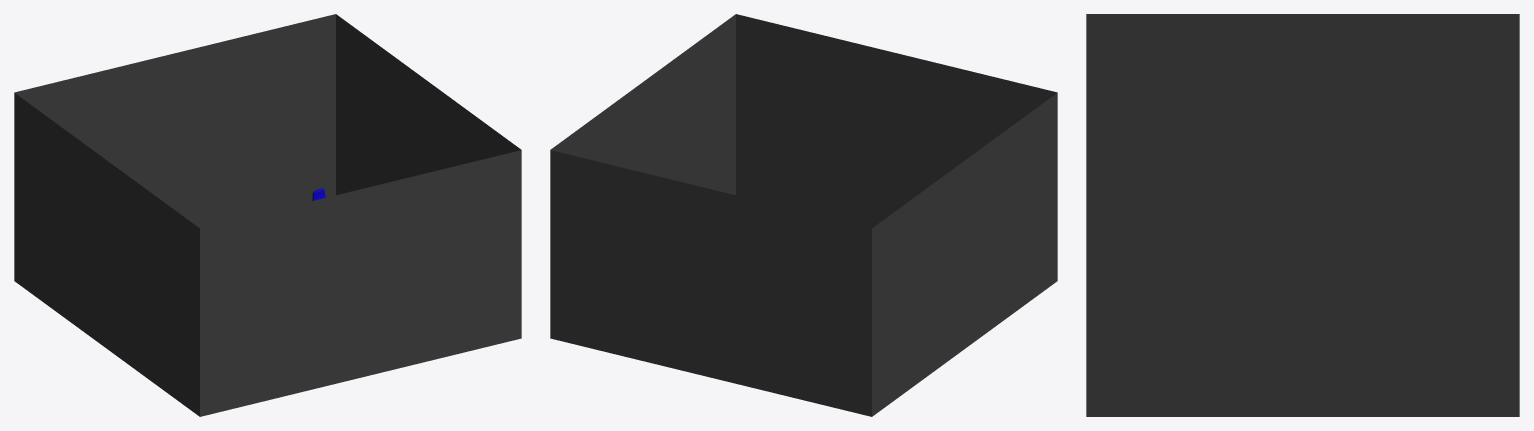
The model's file is floor_with_cubes_2.dae.
3 views of the same model, side by side, from view 1: azimuth 30°, elevation 25°; view 2: azimuth 150°, elevation 25°; view 3: azimuth 270°, elevation 25° (orthographic). The views are drawn at different scales.
Parts seen in each view (by area): view 1: _static_room; view 2: _static_room; view 3: _static_room.
Part boxes in pixels (bbox=[...]): _static_room: bbox=[14, 14, 521, 416]; _static_room: bbox=[550, 14, 1057, 416]; _static_room: bbox=[1086, 14, 1519, 416].
Size of the model in its own units: 9.66 by 9.66 by 5.41.
24 materials, 9 textured.
